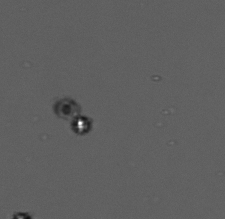Dead Cell: (54, 98, 77, 119)
Living Cell: (71, 113, 91, 136)
